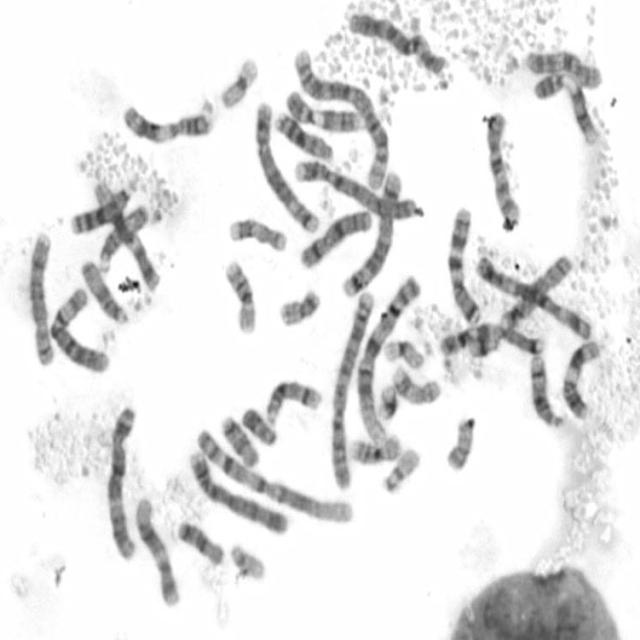A1: (193, 421, 354, 526), (354, 270, 422, 446)
A2: (289, 44, 391, 192), (326, 287, 376, 492)
A3: (473, 252, 592, 342), (102, 401, 140, 561)
B4: (186, 446, 289, 536), (292, 155, 420, 222)
B5: (250, 96, 320, 234), (338, 166, 403, 298)
C10: (482, 106, 520, 226), (521, 45, 603, 91)
C11: (118, 95, 215, 145), (559, 336, 601, 421)
C12: (92, 180, 161, 294), (132, 494, 181, 607)
C6: (344, 7, 448, 76), (48, 283, 112, 374)
C7: (444, 202, 483, 327), (434, 318, 548, 358)
C8: (497, 253, 574, 332), (26, 228, 56, 368)
C9: (529, 66, 601, 146), (282, 86, 363, 132)
D13: (66, 176, 136, 236), (271, 107, 335, 164)
D14: (262, 375, 324, 426), (527, 350, 566, 429)
D15: (95, 200, 150, 273), (78, 257, 128, 326)
E16: (222, 255, 259, 336), (346, 430, 402, 467)
E17: (225, 212, 289, 254), (388, 362, 441, 408)
E18: (216, 410, 262, 470), (175, 518, 224, 566)
F19: (216, 53, 260, 111), (380, 334, 426, 370)
F20: (275, 284, 322, 328), (443, 413, 477, 473)
G21: (467, 324, 504, 364), (375, 379, 400, 424)
G22: (378, 441, 422, 495), (228, 538, 268, 585)
X: (296, 204, 372, 270)
Y: (238, 402, 278, 448)
